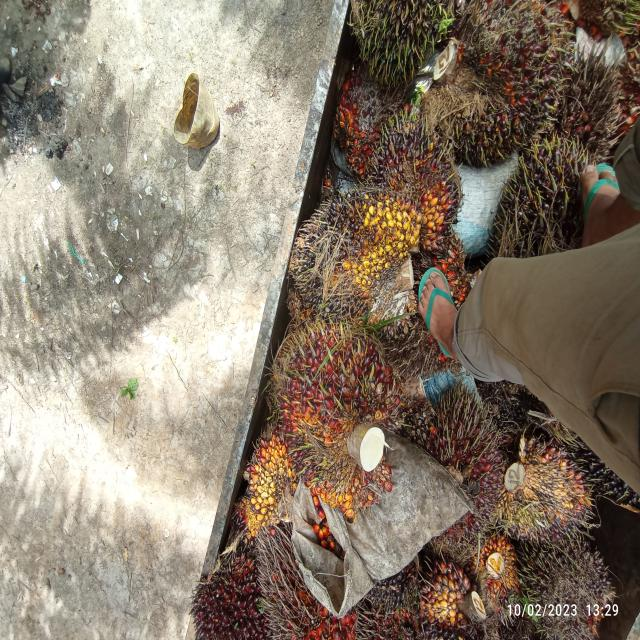fraksi 00: (425, 0, 569, 217), (277, 176, 425, 342), (494, 412, 600, 568), (495, 133, 592, 296), (363, 114, 470, 260), (519, 504, 613, 640)
fraksi 1: (264, 315, 394, 511), (406, 366, 518, 548), (325, 65, 386, 173)
